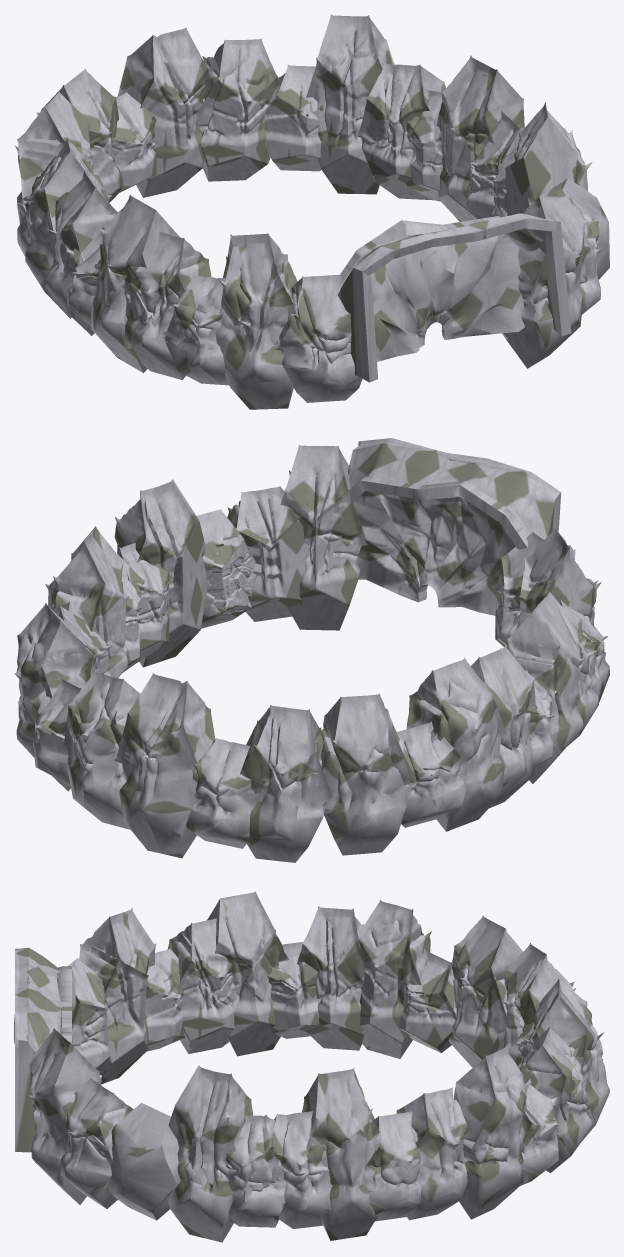
Rendered from quarry-lod0.glb.
3 views of the same model, one above another, from view 1: azimuth 30°, elevation 25°; view 2: azimuth 150°, elevation 25°; view 3: azimuth 270°, elevation 25° (orthographic). The views are drawn at different scales.
Visible parts, largest first — view 1: Quarry_Exit_LOD0, Quarry_Rock_25_LOD0, Quarry_Rock_11_LOD0, Quarry_Rock_14_LOD0, Quarry_Crown_LOD0, Quarry_Rock_13_LOD0, Quarry_Rock_26_LOD0, Quarry_Rock_08_LOD0, Quarry_Rock_02_LOD0, Quarry_Rock_23_LOD0, Quarry_Rock_10_LOD0, Quarry_Rock_22_LOD0 (+15 smaller); view 2: Quarry_Exit_LOD0, Quarry_Rock_14_LOD0, Quarry_Rock_17_LOD0, Quarry_Crown_LOD0, Quarry_Rock_16_LOD0, Quarry_Rock_02_LOD0, Quarry_Rock_19_LOD0, Quarry_Rock_05_LOD0, Quarry_Rock_13_LOD0, Quarry_Rock_03_LOD0, Quarry_Rock_22_LOD0, Quarry_Rock_08_LOD0 (+15 smaller); view 3: Quarry_Rock_05_LOD0, Quarry_Rock_11_LOD0, Quarry_Rock_08_LOD0, Quarry_Rock_19_LOD0, Quarry_Rock_22_LOD0, Quarry_Rock_25_LOD0, Quarry_Rock_17_LOD0, Quarry_Rock_20_LOD0, Quarry_Rock_04_LOD0, Quarry_Rock_23_LOD0, Quarry_Rock_02_LOD0, Quarry_Crown_LOD0 (+14 smaller).
Boxes of the visible parts, x1,y1,x2,y2 form: Quarry_Exit_LOD0: (340, 216, 524, 361); Quarry_Rock_25_LOD0: (215, 233, 297, 409); Quarry_Rock_11_LOD0: (306, 14, 394, 194); Quarry_Rock_14_LOD0: (117, 27, 211, 197); Quarry_Crown_LOD0: (337, 213, 571, 382); Quarry_Rock_13_LOD0: (196, 38, 279, 181); Quarry_Rock_26_LOD0: (275, 274, 362, 402); Quarry_Rock_08_LOD0: (436, 55, 524, 221); Quarry_Rock_02_LOD0: (502, 182, 587, 368); Quarry_Rock_23_LOD0: (124, 231, 211, 379); Quarry_Rock_10_LOD0: (357, 63, 445, 200); Quarry_Rock_22_LOD0: (91, 195, 181, 373); Quarry_Exit_LOD0: (353, 476, 527, 615); Quarry_Rock_14_LOD0: (114, 673, 215, 858); Quarry_Rock_17_LOD0: (320, 693, 414, 855); Quarry_Crown_LOD0: (347, 438, 561, 549); Quarry_Rock_16_LOD0: (240, 705, 332, 862); Quarry_Rock_02_LOD0: (280, 445, 368, 630); Quarry_Rock_19_LOD0: (406, 658, 507, 831); Quarry_Rock_05_LOD0: (114, 479, 206, 667); Quarry_Rock_13_LOD0: (63, 671, 140, 829); Quarry_Rock_03_LOD0: (227, 486, 310, 621); Quarry_Rock_22_LOD0: (500, 592, 584, 783); Quarry_Rock_08_LOD0: (45, 526, 129, 677); Quarry_Rock_05_LOD0: (168, 1065, 253, 1242); Quarry_Rock_11_LOD0: (453, 1045, 532, 1219); Quarry_Rock_08_LOD0: (302, 1068, 380, 1240); Quarry_Rock_19_LOD0: (356, 900, 431, 1058); Quarry_Rock_22_LOD0: (206, 891, 288, 1056); Quarry_Rock_25_LOD0: (79, 907, 156, 1084); Quarry_Rock_17_LOD0: (449, 915, 523, 1067); Quarry_Rock_20_LOD0: (297, 906, 365, 1050); Quarry_Rock_04_LOD0: (106, 1103, 180, 1220); Quarry_Rock_23_LOD0: (167, 918, 234, 1053); Quarry_Rock_02_LOD0: (28, 1028, 102, 1204); Quarry_Crown_LOD0: (14, 947, 75, 1152).
Bounding box in the file's own units: 143 × 51.46 × 163.
Materials: 1 (1 with a texture image).
